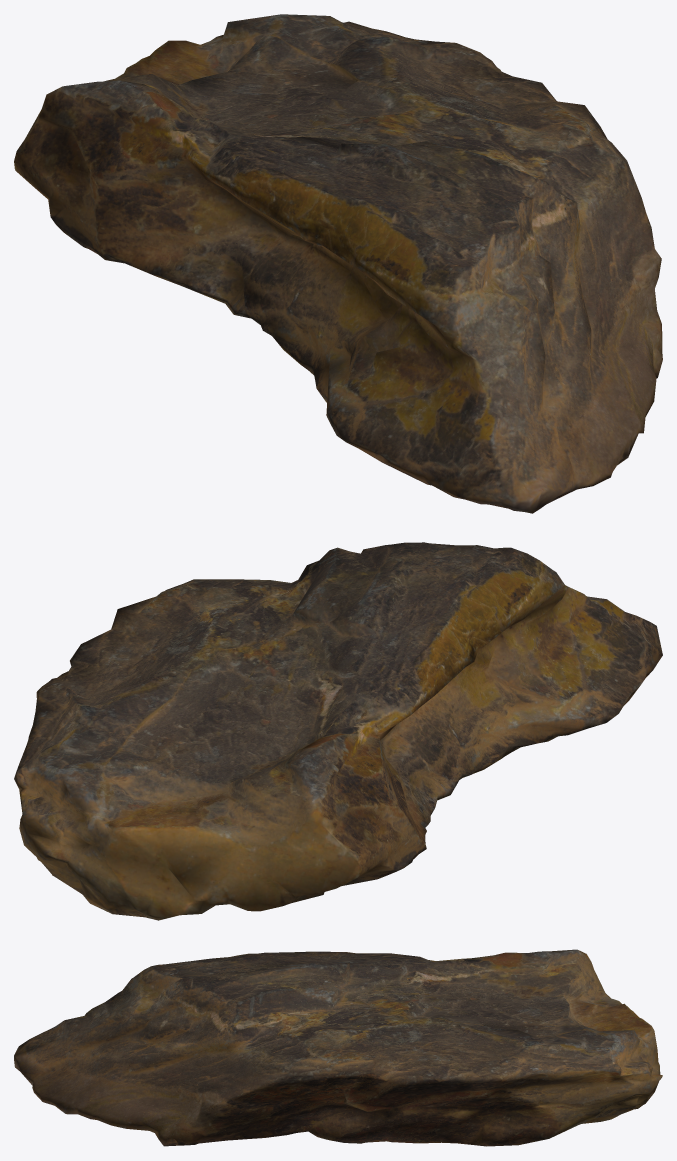
The model's file is rock_09_lod1.gltf.
The picture shows the model from 3 angles, top to bottom: view 1: azimuth 30°, elevation 25°; view 2: azimuth 150°, elevation 25°; view 3: azimuth 270°, elevation 25°; orthographic projection. The views are drawn at different scales.
Visible parts, largest first — view 1: rock_09_LOD1; view 2: rock_09_LOD1; view 3: rock_09_LOD1.
Boxes of the visible parts, x1,y1,x2,y2 form: rock_09_LOD1: (14,14,662,513); rock_09_LOD1: (14,542,662,920); rock_09_LOD1: (14,949,662,1146).
Bounding box in the file's own units: 0.0738 × 0.0325 × 0.1446.
Materials: 1 (1 with a texture image).
